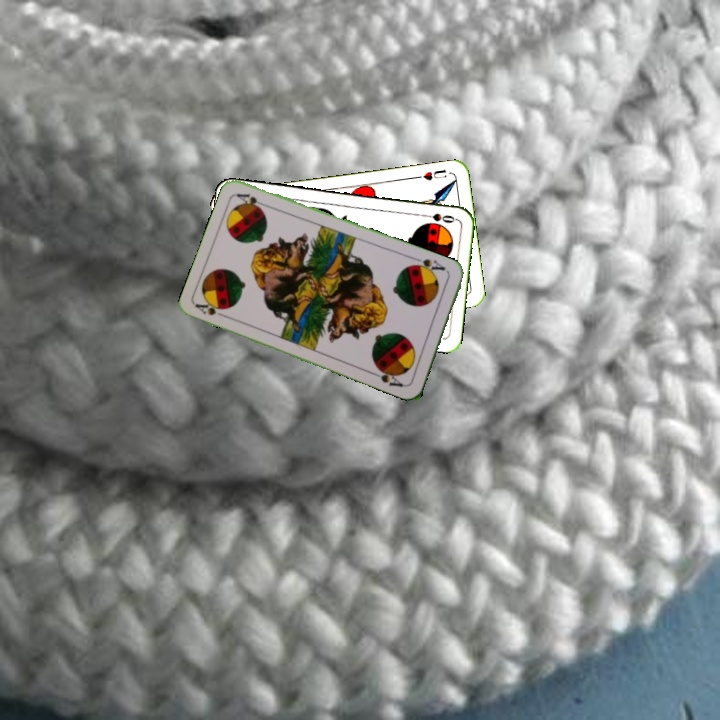HU: (412, 165, 449, 183)
SA: (409, 254, 448, 277), (192, 300, 232, 321)
SO: (418, 209, 459, 226)
